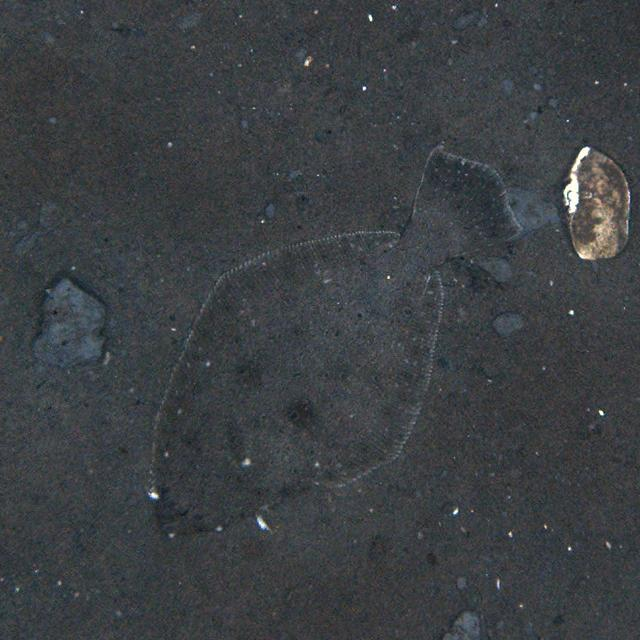flatfish: (151, 147, 513, 549)
